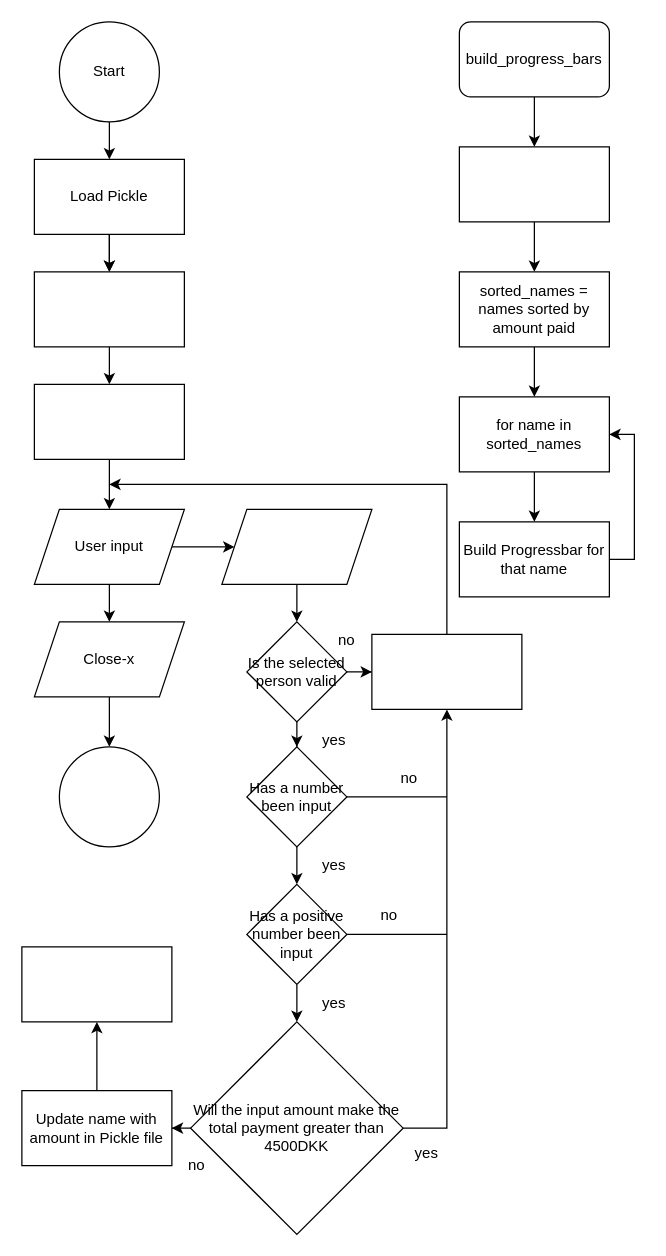
Some shapes in this 666 by 1256 pixel diagram are drawn without their labels. The shapes that lost their labels are listed below. From the top down, each one's centre as x and y in pixels, then its label:
At point 533,184: "Destroy all current progress bars".
At point 108,309: "Build main page (labels, button, combobox, entry, Menu)".
At point 108,421: "build_progress_bars()".
At point 296,546: "Register Payment".
At point 446,671: "Error: invalid input (with feedback)".
At point 108,796: "End".
At point 96,984: "build_progress_bar()".
